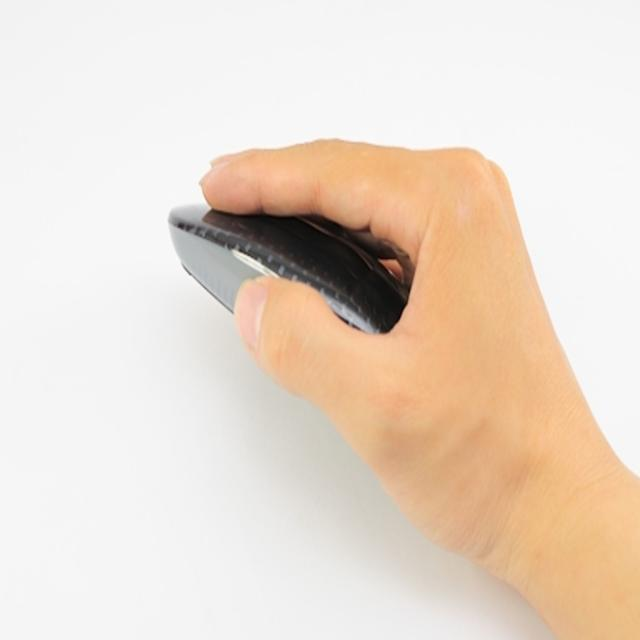Computer mouse: (168, 205, 410, 337)
